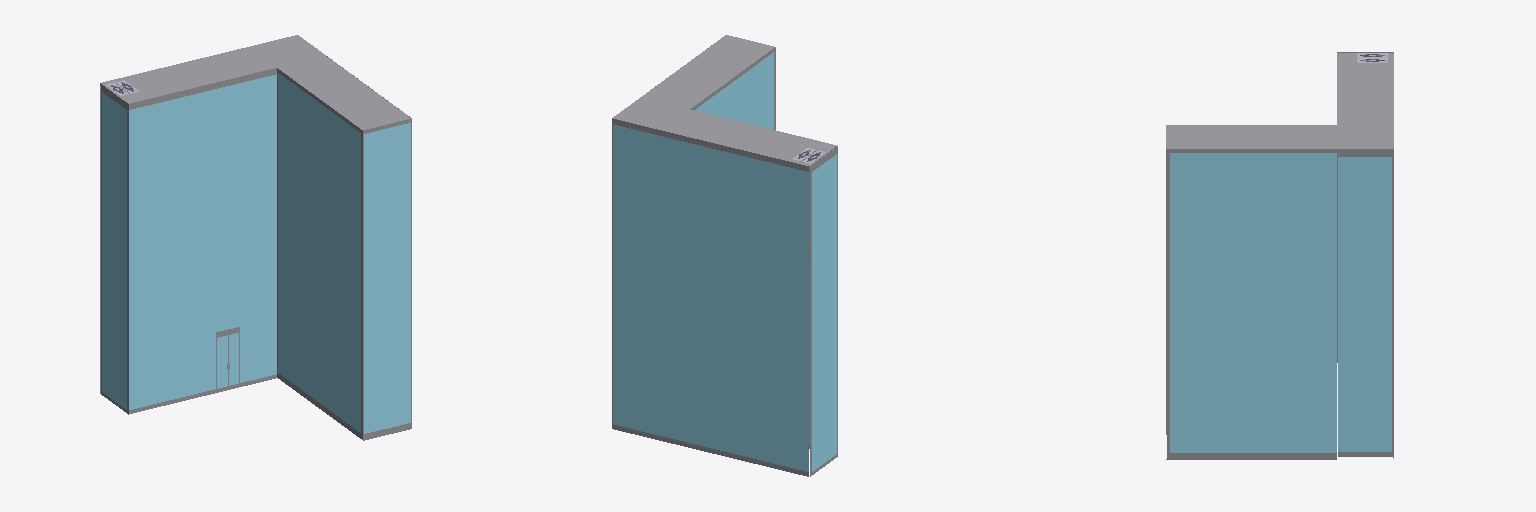
3 renders of one model, left to right at view 1: azimuth 30°, elevation 25°; view 2: azimuth 150°, elevation 25°; view 3: azimuth 270°, elevation 25°, orthographic.
Visible parts, largest first — view 1: building3b; view 2: building3b; view 3: building3b.
Boxes of the visible parts, box(x1,y1,x2,y2) form: building3b: box(100, 35, 411, 440); building3b: box(612, 35, 837, 476); building3b: box(1166, 52, 1393, 459).
Size of the model in its own units: 40 by 60 by 40.
Materials: 1 (1 with a texture image).